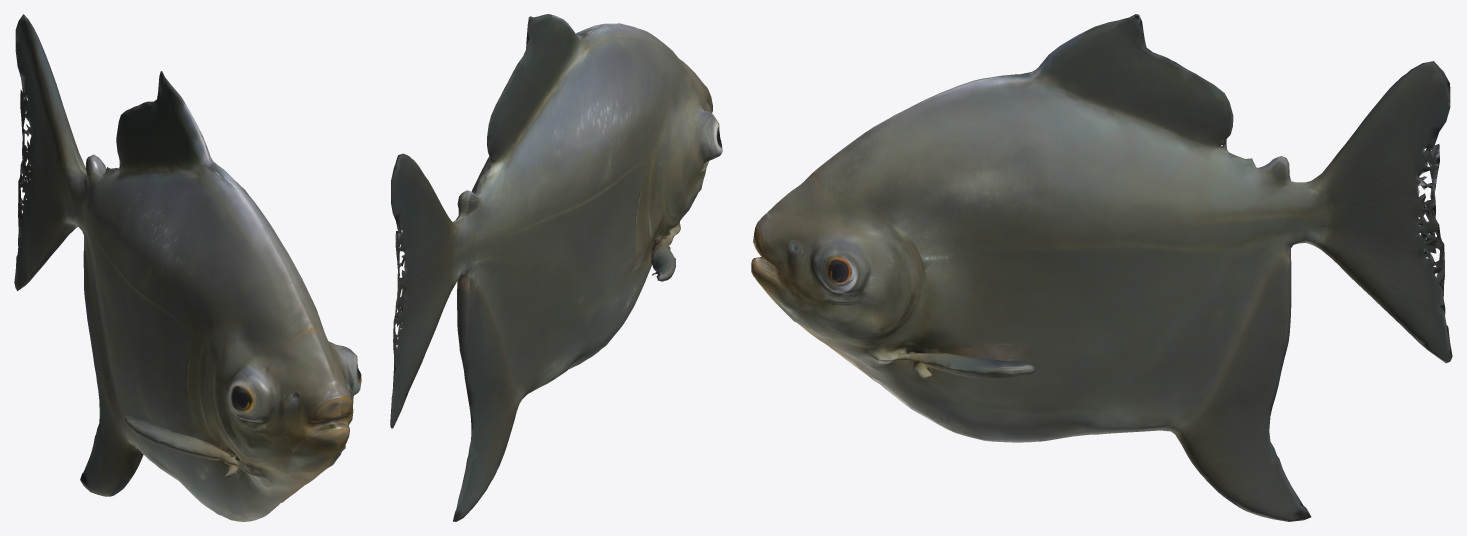
The model's file is dollar_silver_0604070427_texture.glb.
3 views of the same model, side by side, from view 1: azimuth 30°, elevation 25°; view 2: azimuth 150°, elevation 25°; view 3: azimuth 270°, elevation 25° (orthographic). The views are drawn at different scales.
Bounding box in the file's own units: 0.6262 × 1.59 × 1.99.
Materials: 1 (1 with a texture image).
